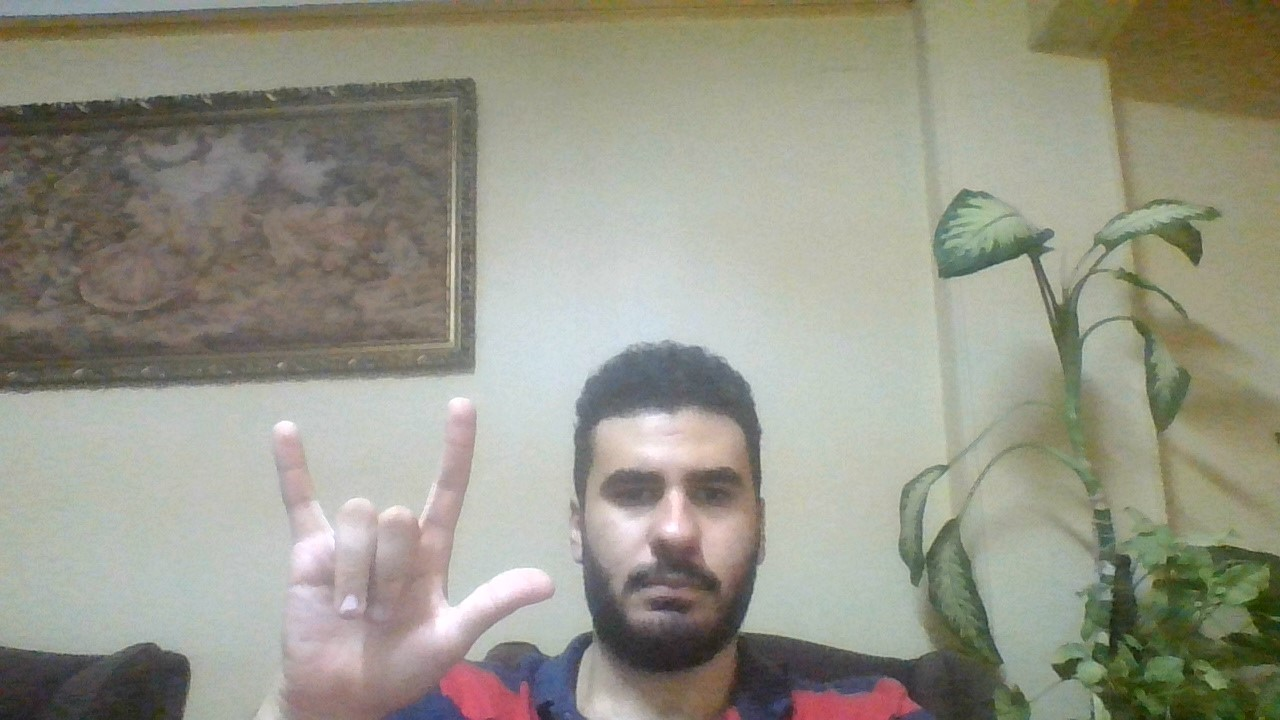love: (234, 394, 557, 709)
